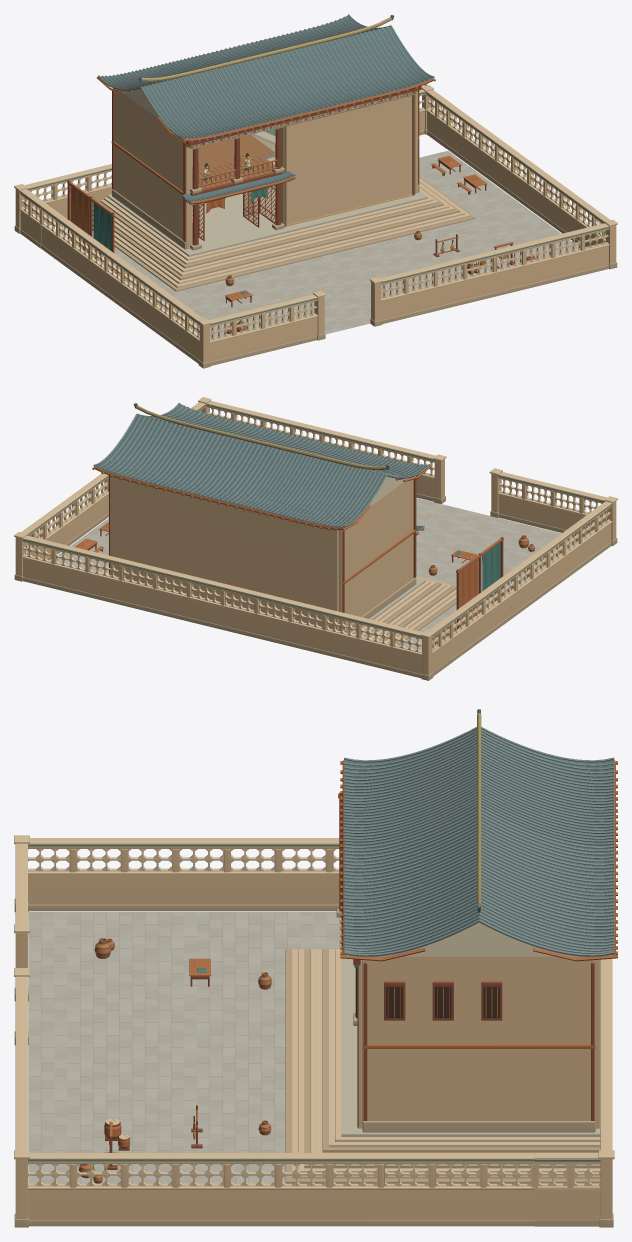
File: music-pavilion.glb
3 renders of one model, top to bottom at view 1: azimuth 30°, elevation 25°; view 2: azimuth 150°, elevation 25°; view 3: azimuth 270°, elevation 25°, orthographic. The views are drawn at different scales.
Parts seen in each view (by area): view 1: architecture--plaster.001, court-paving--court-limestone-0, courtyard-enclosure--plaster.001, main-roof--tile.001, courtyard-enclosure--stone-light.001, main-roof--tile-edge.001, terraced-foundation--stone-light, terraced-foundation--music-decor-stone, terraced-foundation--stone, courtyard-enclosure--stone, porch--wood.001, music-interior-floor--music-decor-wood (+17 smaller); view 2: architecture--plaster.001, courtyard-enclosure--plaster.001, courtyard-enclosure--stone-light.001, main-roof--tile.001, main-roof--tile-edge.001, court-paving--court-limestone-0, courtyard-enclosure--stone, terraced-foundation--stone-light, courtyard-enclosure--teal.001, main-roof--wood-light.001, main-roof--music-decor-ochre, terraced-foundation--stone (+5 smaller); view 3: court-paving--court-limestone-0, main-roof--tile-edge.001, architecture--plaster.001, courtyard-enclosure--plaster.001, main-roof--tile.001, courtyard-enclosure--stone-light.001, terraced-foundation--stone-light, terraced-foundation--stone, courtyard-enclosure--stone, court-paving--court-fine-joints, terraced-foundation--music-decor-stone, mural-frame--stone.001 (+9 smaller).
Part boxes in pixels (x1,y1,x2,y2): architecture--plaster.001: (113,88,417,249); court-paving--court-limestone-0: (93,151,578,338); courtyard-enclosure--plaster.001: (15,92,616,363); main-roof--tile.001: (99,15,432,138); courtyard-enclosure--stone-light.001: (14,84,617,343); main-roof--tile-edge.001: (98,14,434,139); terraced-foundation--stone-light: (92,178,470,287); terraced-foundation--music-decor-stone: (107,157,427,256); terraced-foundation--stone: (92,176,475,291); courtyard-enclosure--stone: (14,129,617,368); porch--wood.001: (190,128,282,245); music-interior-floor--music-decor-wood: (192,134,274,170); architecture--plaster.001: (110,476,415,631); courtyard-enclosure--plaster.001: (15,404,616,675); courtyard-enclosure--stone-light.001: (14,397,617,655); main-roof--tile.001: (95,403,429,526); main-roof--tile-edge.001: (93,402,430,527); court-paving--court-limestone-0: (57,498,575,650); courtyard-enclosure--stone: (14,493,617,680); terraced-foundation--stone-light: (100,566,459,643); courtyard-enclosure--teal.001: (22,404,612,637); main-roof--wood-light.001: (92,404,431,530); main-roof--music-decor-ochre: (136,405,386,470); terraced-foundation--stone: (99,564,459,645); court-paving--court-limestone-0: (28,912,341,1183); main-roof--tile-edge.001: (344,727,614,955); architecture--plaster.001: (358,956,599,1131); courtyard-enclosure--plaster.001: (15,846,612,1219); main-roof--tile.001: (344,709,613,956); courtyard-enclosure--stone-light.001: (14,835,614,1189); terraced-foundation--stone-light: (292,949,600,1178); terraced-foundation--stone: (285,949,600,1183); courtyard-enclosure--stone: (14,898,613,1227); court-paving--court-fine-joints: (28,912,339,1183); terraced-foundation--music-decor-stone: (341,949,600,1136); mural-frame--stone.001: (363,1121,595,1132).
Bounding box in the file's own units: 46.98 × 17.83 × 37.27.
Materials: 35 (1 with a texture image).
